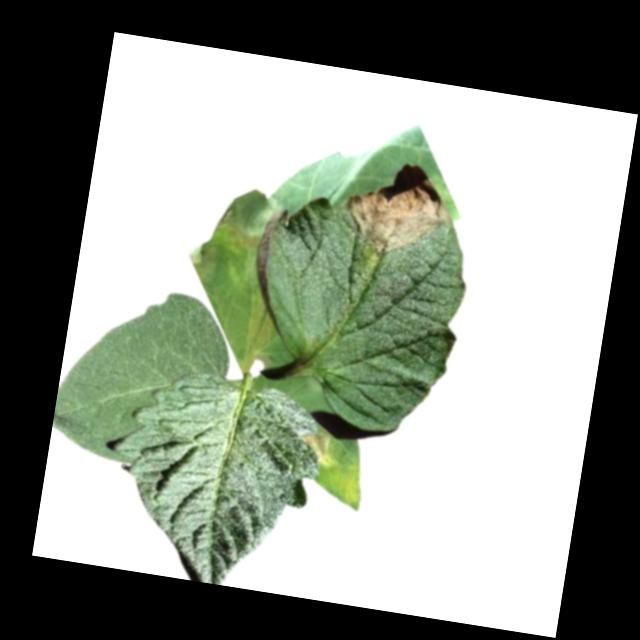Late_blight: (336, 153, 460, 266), (211, 184, 283, 277), (184, 235, 220, 282), (298, 428, 336, 466)
healthy: (95, 365, 330, 597), (49, 275, 239, 478)
